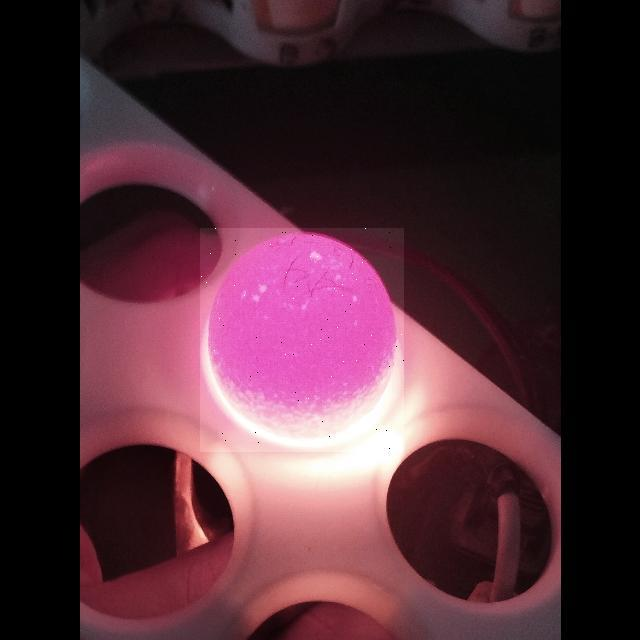Infertile: (200, 228, 404, 452)
